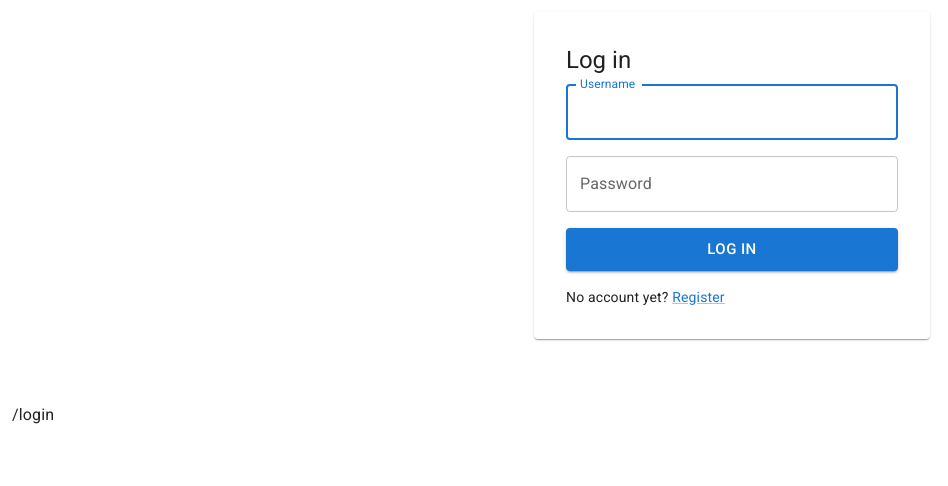
Test: LoginPage › requires both fields before sending anything
Expected: the heading "Log in" is shown, [566,46,631,74]
Click the button "Log in" at {"x": 732, "y": 250}, box [566,228,898,271]
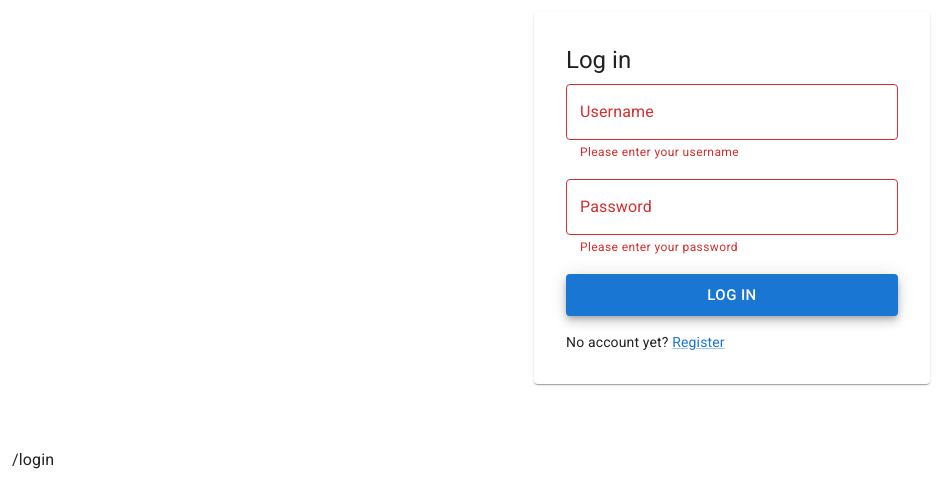
Expected: the text "Please enter your username" is shown, [580,145,739,159]
Expected: the text "Please enter your password" is shown, [580,240,738,254]
